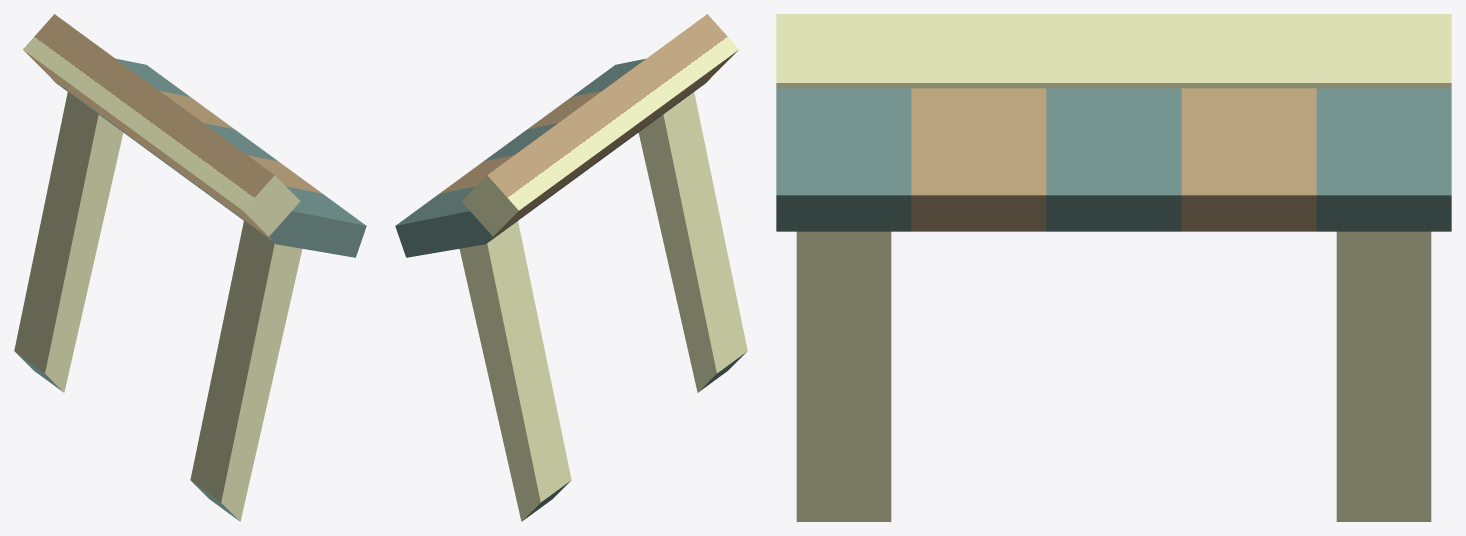
File: ToldoSimpleSubido.fbx
3 views of the same model, side by side, from view 1: azimuth 30°, elevation 25°; view 2: azimuth 150°, elevation 25°; view 3: azimuth 270°, elevation 25° (orthographic). The views are drawn at different scales.
Parts seen in each view (by area): view 1: Cube.039; view 2: Cube.039; view 3: Cube.039.
Boxes of the visible parts, x1=… form: Cube.039: x1=14, y1=14, x2=366, y2=521; Cube.039: x1=395, y1=14, x2=747, y2=521; Cube.039: x1=776, y1=14, x2=1451, y2=521.
Size of the model in its own units: 18.54 by 43.97 by 50.9.
